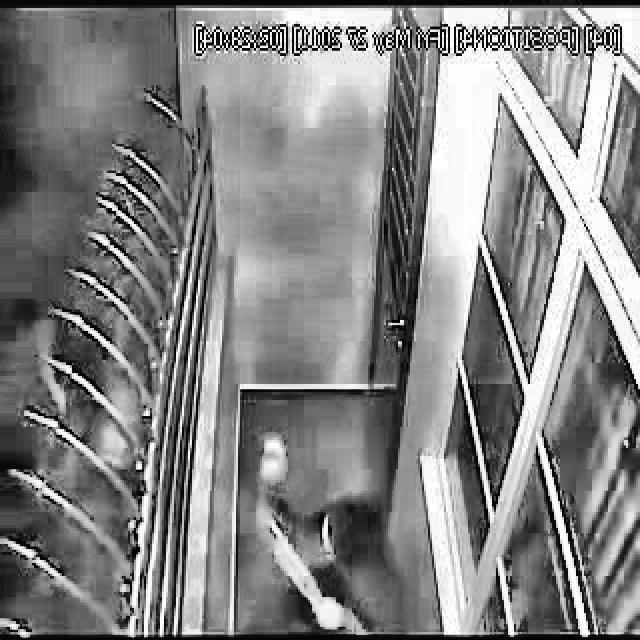burglary: (250, 430, 414, 634)
